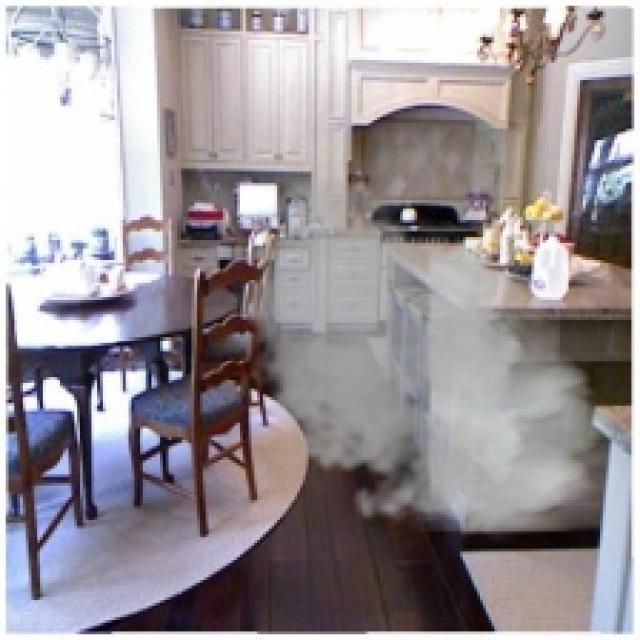smoke: (223, 168, 614, 546)
